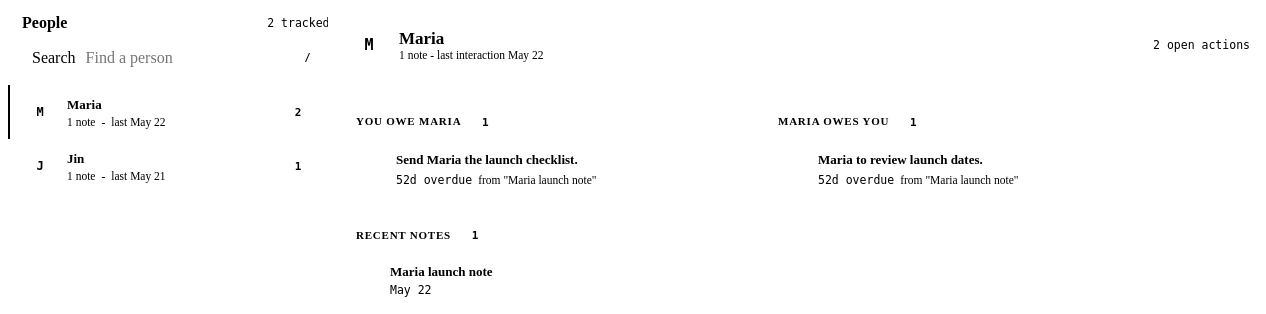
it: PeopleView › updates the detail panel when a person is selected
The width and height of the screenshot is (1266, 314).
Step 1. Click the button with aria-label "Select Jin" → click(138, 176), box 8,139 -> 328,193
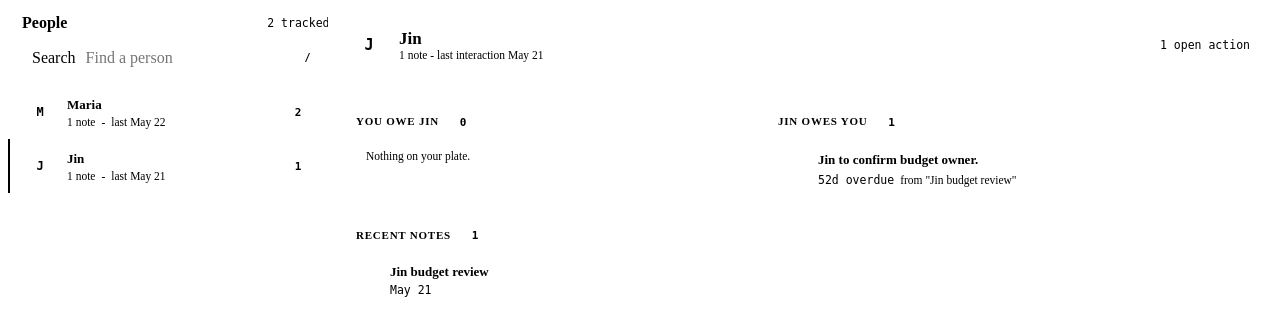
Check: the heading "Jin" is shown, box 399,29 -> 422,48
Check: the heading "You owe Jin" is shown, box 356,115 -> 439,129
Check: the heading "Jin owes you" is shown, box 778,115 -> 868,129
